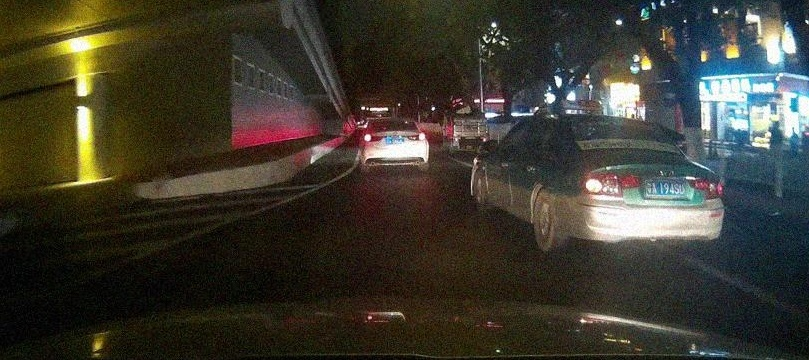L_light: (580, 173, 641, 196), (363, 134, 383, 142)
R_light: (689, 179, 723, 195), (407, 133, 426, 141)
T_light: (613, 121, 629, 125), (390, 121, 397, 123)
night-left: (553, 114, 725, 256)
night-no: (362, 118, 429, 171)
